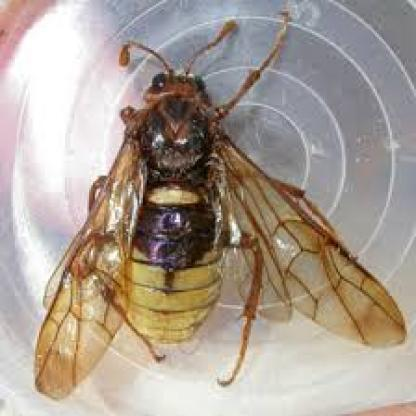sawfly: (34, 7, 413, 397)
